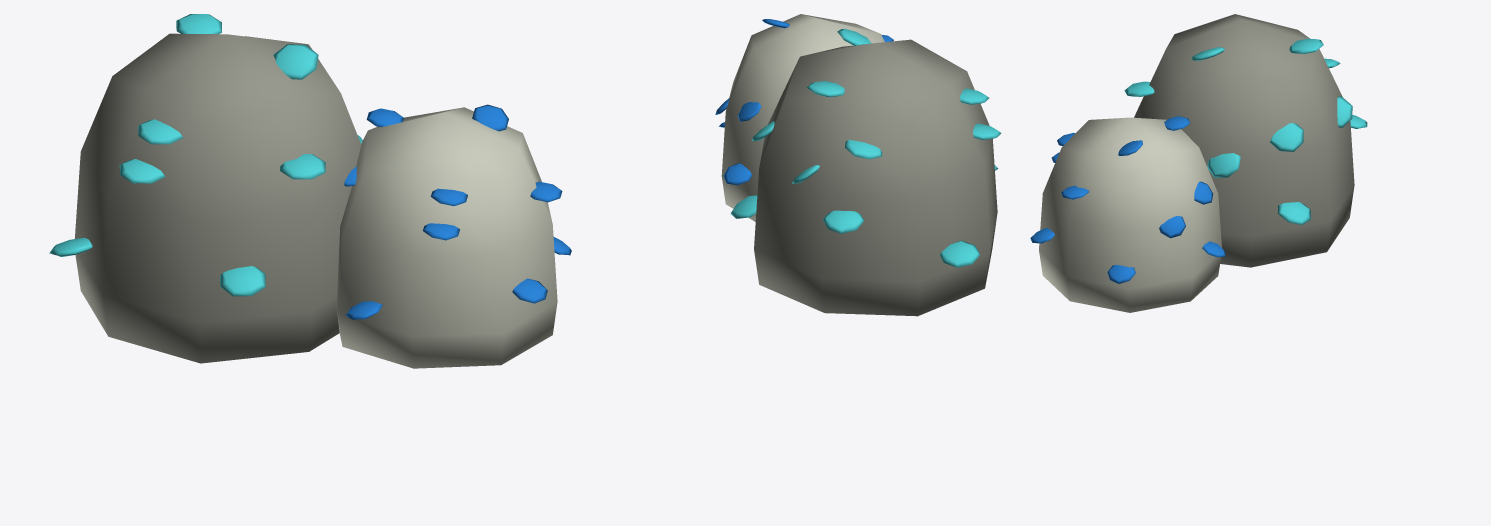
Rendered from Invierno.fbx.
3 views of the same model, side by side, from view 1: azimuth 30°, elevation 25°; view 2: azimuth 150°, elevation 25°; view 3: azimuth 270°, elevation 25° (orthographic). The views are drawn at different scales.
Visible parts, largest first — view 1: Cube.048, Cube.047; view 2: Cube.048, Cube.047; view 3: Cube.048, Cube.047.
Part boxes in pixels (x1,y1,x2,y2): Cube.048: (49, 14, 362, 363); Cube.047: (336, 104, 571, 368); Cube.048: (730, 28, 1001, 316); Cube.047: (715, 14, 893, 221); Cube.048: (1124, 14, 1367, 267); Cube.047: (1030, 116, 1225, 312).
Bounding box in the file's own units: 368 × 457 × 459.
